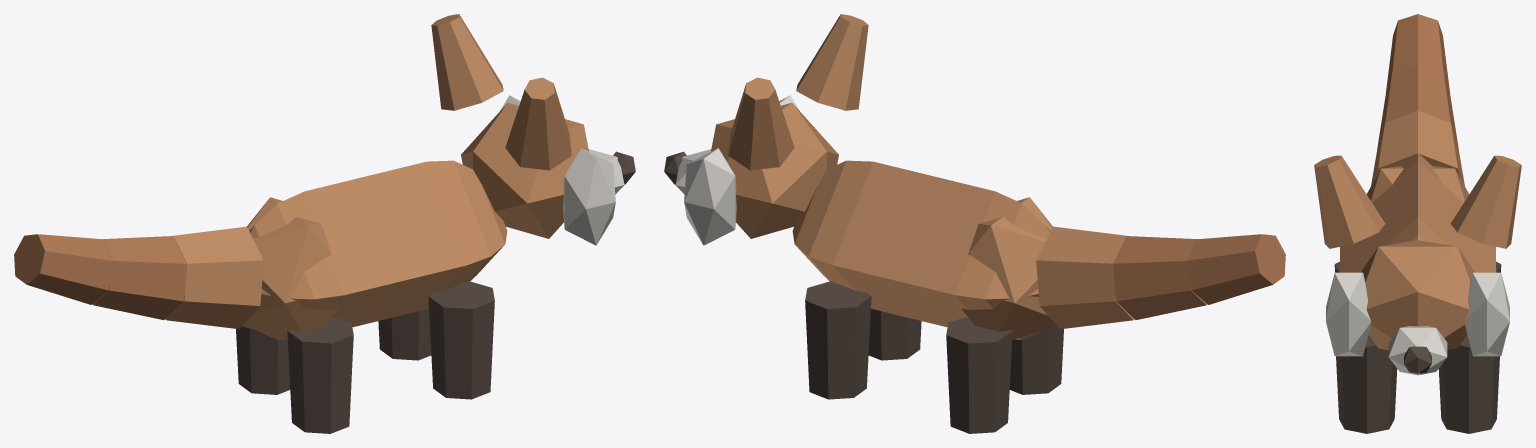
The picture shows the model from 3 angles, left to right: view 1: azimuth 30°, elevation 25°; view 2: azimuth 150°, elevation 25°; view 3: azimuth 270°, elevation 25°; orthographic projection. The views are drawn at different scales.
Visible parts, largest first — view 1: part0, part2, part9, part13, part15, part1, part10, part11, part7, part8, part6, part14 (+1 smaller); view 2: part0, part2, part9, part12, part14, part1, part10, part11, part8, part7, part5, part15 (+1 smaller); view 3: part2, part0, part12, part13, part7, part8, part9, part5, part6, part10, part11, part3 (+2 smaller).
Part boxes in pixels (left/top/right/bottom): part0: left=249, top=160, right=507, bottom=339; part2: left=461, top=102, right=588, bottom=238; part9: left=165, top=226, right=263, bottom=329; part13: left=428, top=281, right=494, bottom=399; part15: left=287, top=317, right=353, bottom=433; part1: left=242, top=197, right=338, bottom=339; part10: left=92, top=236, right=186, bottom=319; part11: left=14, top=234, right=112, bottom=304; part7: left=431, top=14, right=503, bottom=110; part8: left=505, top=77, right=571, bottom=170; part6: left=563, top=148, right=615, bottom=245; part14: left=236, top=326, right=290, bottom=394; part0: left=792, top=160, right=1050, bottom=339; part2: left=711, top=102, right=838, bottom=238; part9: left=1036, top=226, right=1134, bottom=329; part12: left=805, top=281, right=871, bottom=399; part14: left=946, top=317, right=1012, bottom=433; part1: left=961, top=197, right=1057, bottom=339; part10: left=1113, top=236, right=1207, bottom=319; part11: left=1187, top=234, right=1285, bottom=304; part8: left=796, top=14, right=868, bottom=110; part7: left=728, top=77, right=794, bottom=170; part5: left=684, top=148, right=736, bottom=245; part15: left=1009, top=326, right=1063, bottom=394; part2: left=1360, top=240, right=1475, bottom=349; part0: left=1340, top=153, right=1495, bottom=272; part12: left=1438, top=335, right=1499, bottom=433; part13: left=1336, top=335, right=1397, bottom=433; part7: left=1450, top=155, right=1521, bottom=248; part8: left=1314, top=155, right=1385, bottom=248; part9: left=1371, top=110, right=1464, bottom=185; part5: left=1465, top=272, right=1509, bottom=356; part6: left=1326, top=272, right=1370, bottom=356; part10: left=1377, top=64, right=1458, bottom=150; part11: left=1385, top=14, right=1450, bottom=93; part3: left=1388, top=326, right=1447, bottom=375.
Size of the model in its own units: 4.51 by 2.15 by 1.38.
